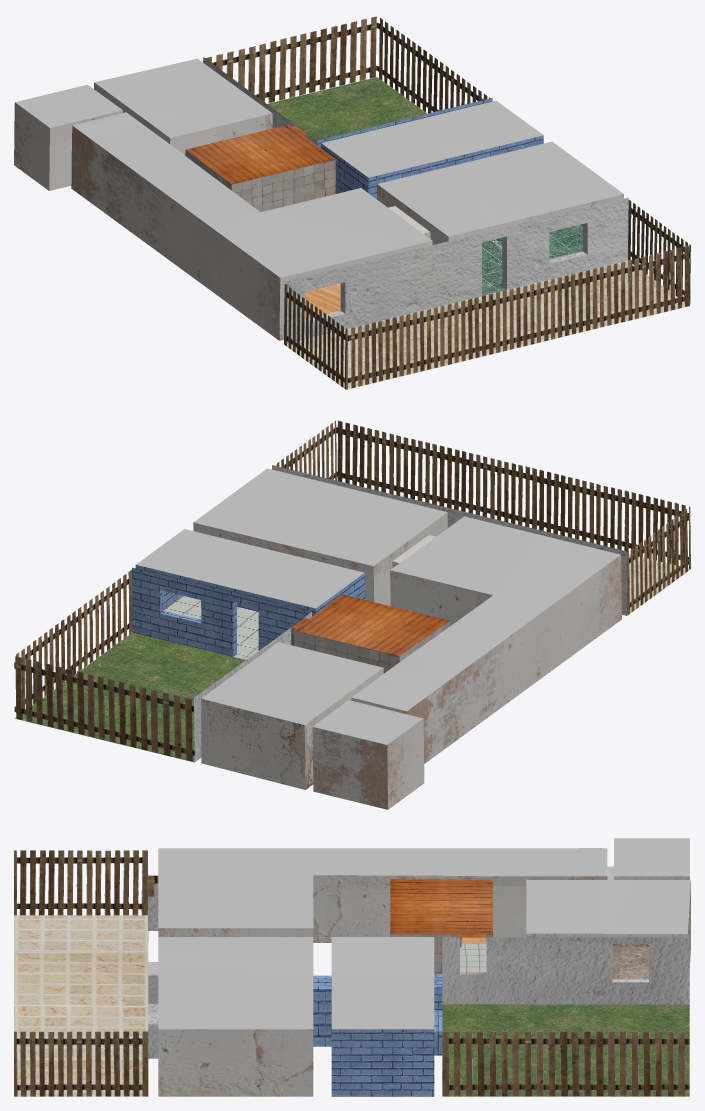
File: House_v8.fbx
3 renders of one model, top to bottom at view 1: azimuth 30°, elevation 25°; view 2: azimuth 150°, elevation 25°; view 3: azimuth 270°, elevation 25°, orthographic. The views are drawn at different scales.
Visible parts, largest first — view 1: MapV3.001; view 2: MapV3.001; view 3: MapV3.001.
Part boxes in pixels (<box>): MapV3.001: <box>14,16,690,389</box>; MapV3.001: <box>14,420,690,809</box>; MapV3.001: <box>14,838,690,1096</box>.
Size of the model in its own units: 29.15 by 43.54 by 4.85.
